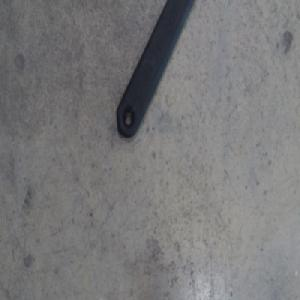AdjustableWrench: (116, 0, 193, 137)
